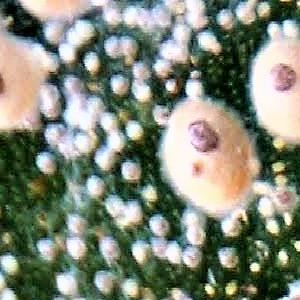Femea: (172, 104, 237, 205), (256, 39, 299, 143)
Linfa: (72, 86, 117, 119), (102, 194, 143, 229), (80, 12, 106, 61), (98, 111, 124, 150), (30, 234, 58, 264), (267, 15, 299, 38), (97, 234, 123, 260), (33, 149, 58, 176), (131, 233, 150, 268), (51, 273, 76, 299), (182, 226, 208, 250), (39, 19, 65, 42), (181, 76, 207, 99), (91, 272, 116, 295), (130, 78, 153, 103), (117, 6, 142, 29), (91, 147, 117, 169), (119, 32, 138, 61), (220, 247, 241, 273), (63, 237, 86, 260), (120, 118, 146, 138), (166, 237, 183, 267), (82, 173, 106, 194), (43, 123, 64, 147), (106, 73, 128, 95), (253, 194, 274, 217), (215, 3, 234, 28), (102, 33, 120, 59), (150, 236, 166, 265), (145, 215, 168, 235), (119, 275, 138, 299), (73, 132, 94, 153), (183, 247, 202, 270), (0, 249, 17, 274), (123, 159, 143, 180), (260, 216, 281, 235), (139, 184, 158, 204), (84, 48, 100, 69), (246, 258, 261, 271)
